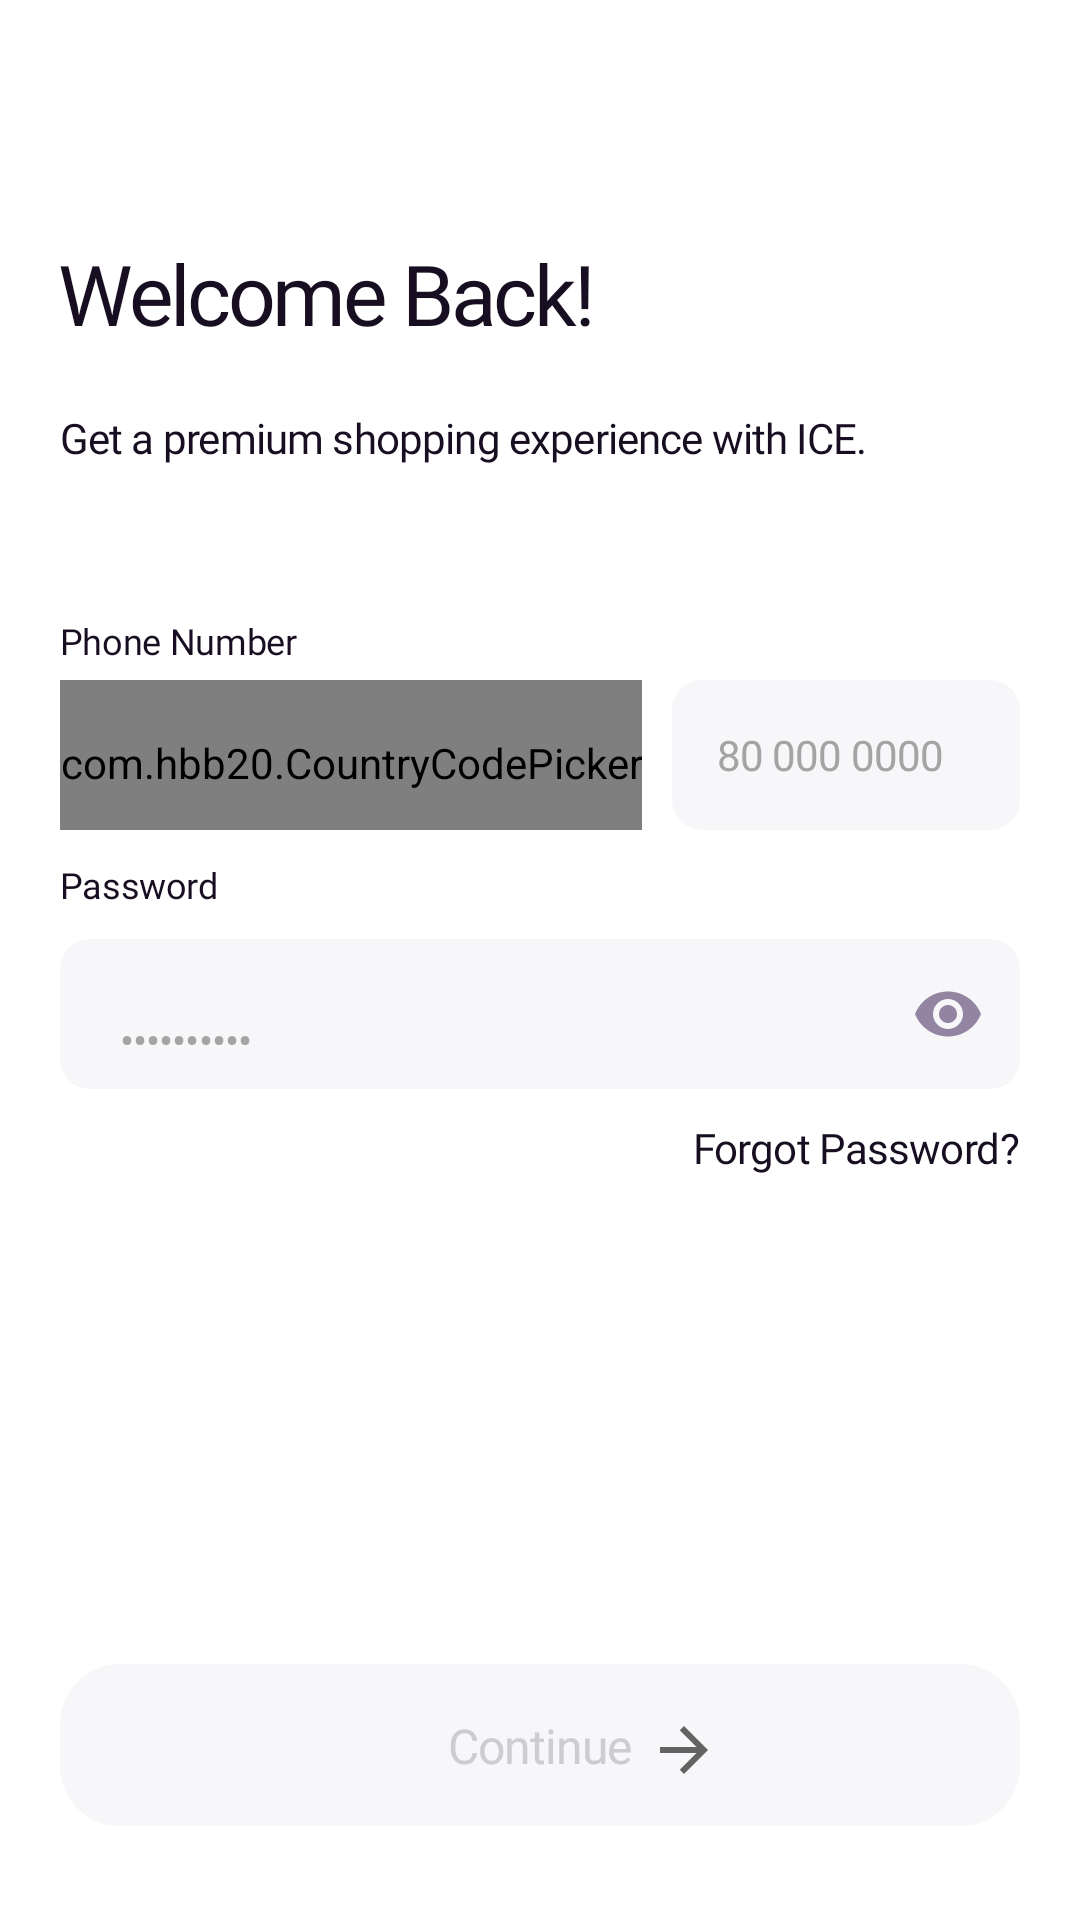

Where icons sit on this 1080w x 1920h app screen, as (x1, y1, x2, y2):
arrow forward: (660, 1726, 708, 1774)
